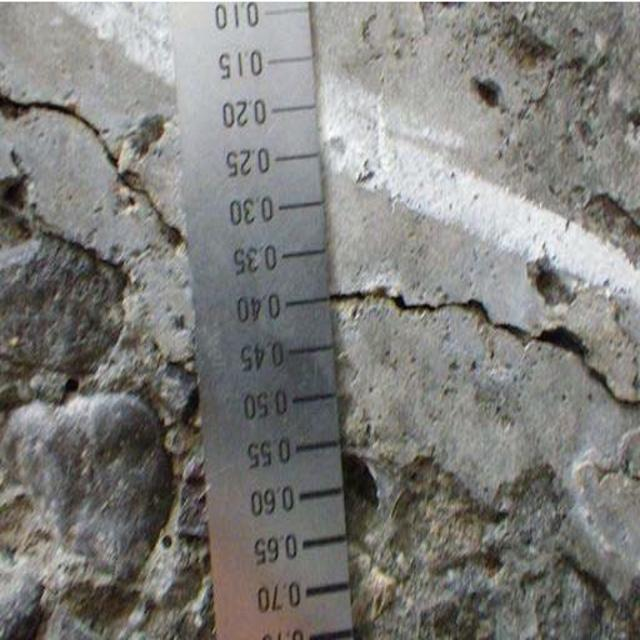crack: (338, 275, 640, 422), (4, 82, 190, 298)
